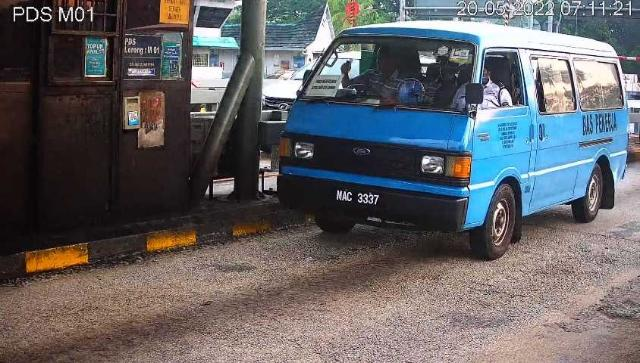License_Plate: (335, 188, 384, 213)
van: (280, 22, 630, 261)
